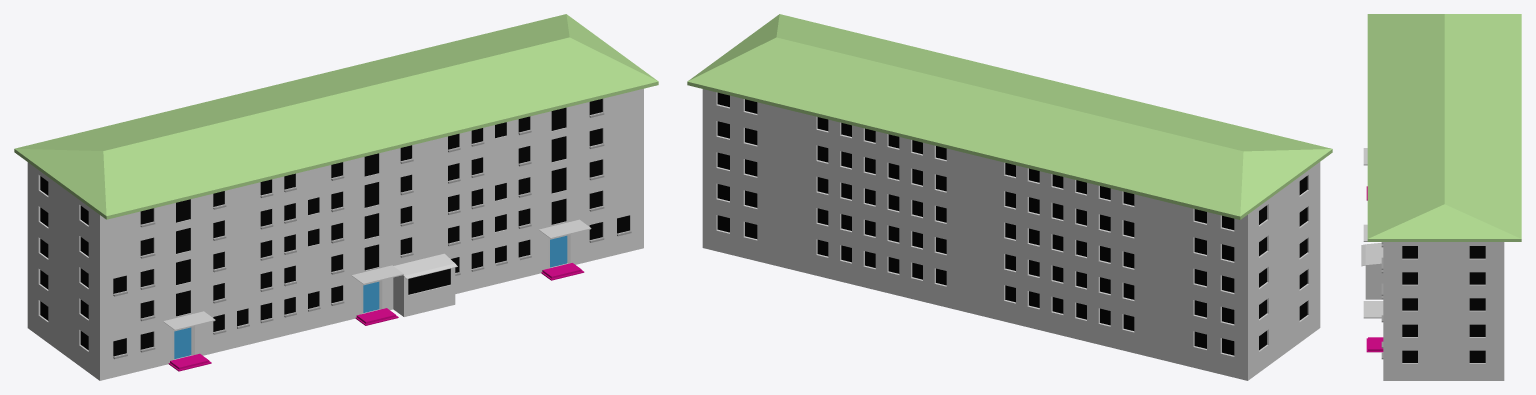
The model's file is SDANIE right.fbx.
The picture shows the model from 3 angles, left to right: view 1: azimuth 30°, elevation 25°; view 2: azimuth 150°, elevation 25°; view 3: azimuth 270°, elevation 25°; orthographic projection. The views are drawn at different scales.
Parts seen in each view (by area): view 1: Куб.003; view 2: Куб.003; view 3: Куб.003.
Boxes of the visible parts, box(x1,y1,x2,y2) form: Куб.003: box(14, 14, 658, 380); Куб.003: box(687, 14, 1332, 380); Куб.003: box(1361, 14, 1521, 380).
Size of the model in its own units: 1834 by 613 by 553.
